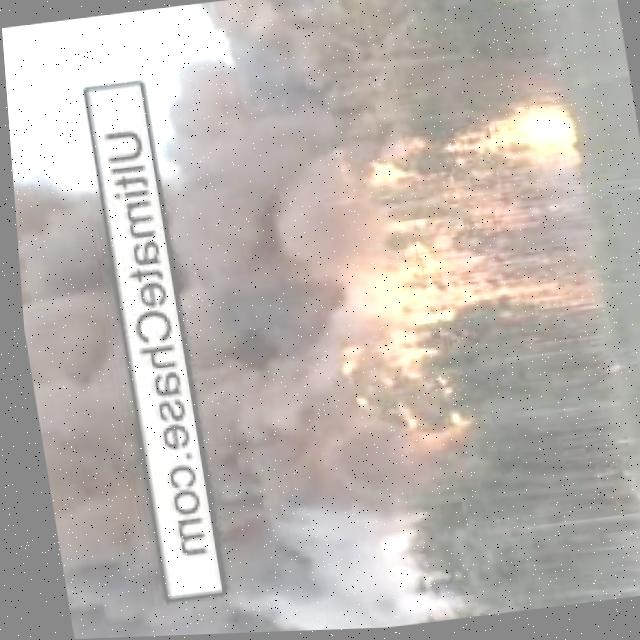Fire: (332, 96, 614, 328), (328, 340, 462, 463), (496, 0, 556, 17)
Smoke: (135, 0, 443, 636), (10, 174, 160, 640)
